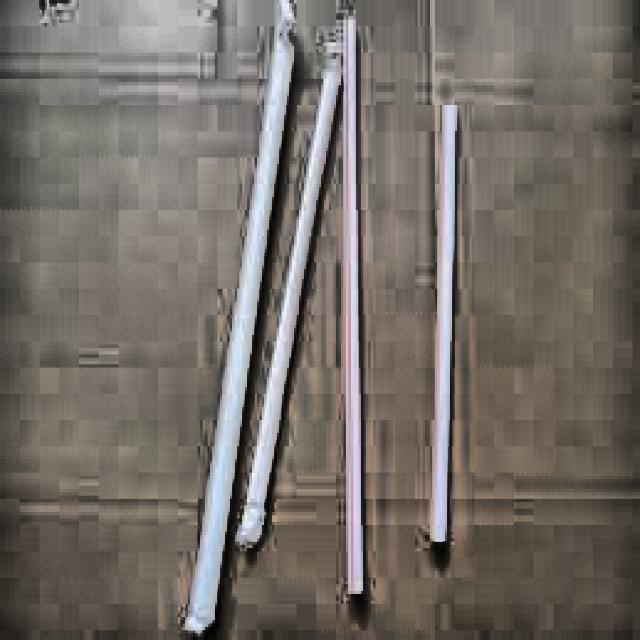plastic straw: (185, 0, 294, 632), (238, 43, 340, 547), (432, 105, 454, 544), (346, 18, 360, 595)
